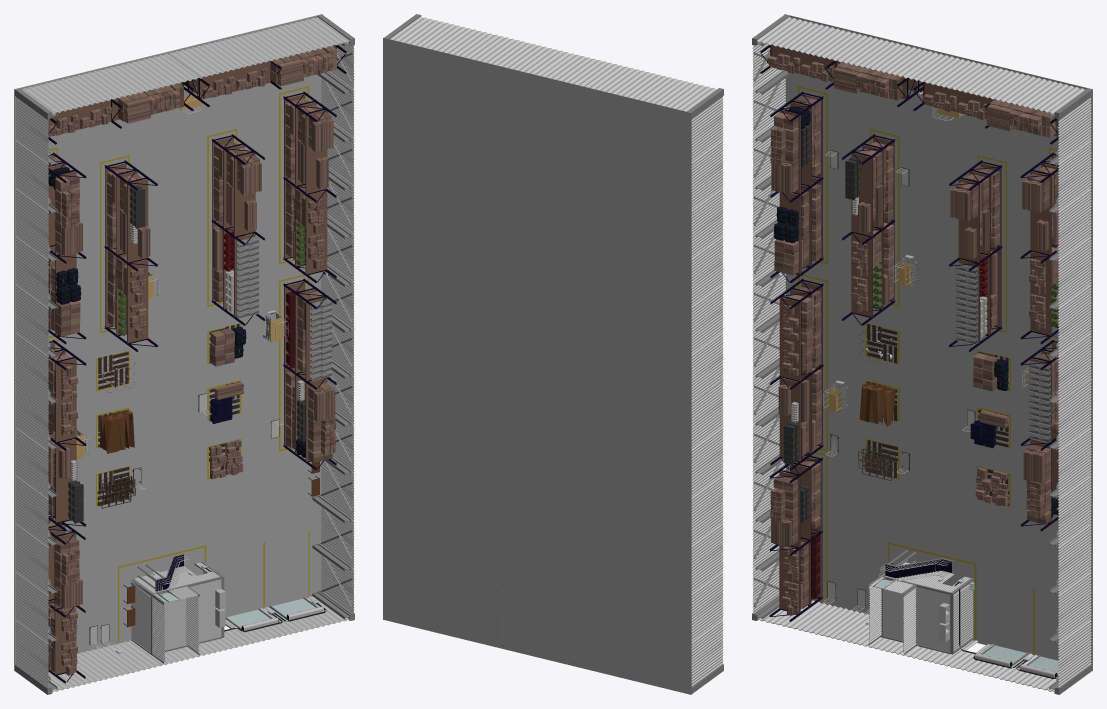
File: warehouse6.glb
3 views of the same model, side by side, from view 1: azimuth 30°, elevation 25°; view 2: azimuth 150°, elevation 25°; view 3: azimuth 330°, elevation 25° (orthographic).
Visible parts, largest first — view 1: geometry_0; view 2: geometry_0; view 3: geometry_0.
Part boxes in pixels (x1=…): geometry_0: x1=14, y1=14, x2=354, y2=694; geometry_0: x1=383, y1=14, x2=723, y2=694; geometry_0: x1=752, y1=14, x2=1092, y2=694.
Size of the model in its own units: 17.32 by 31.32 by 3.2.
